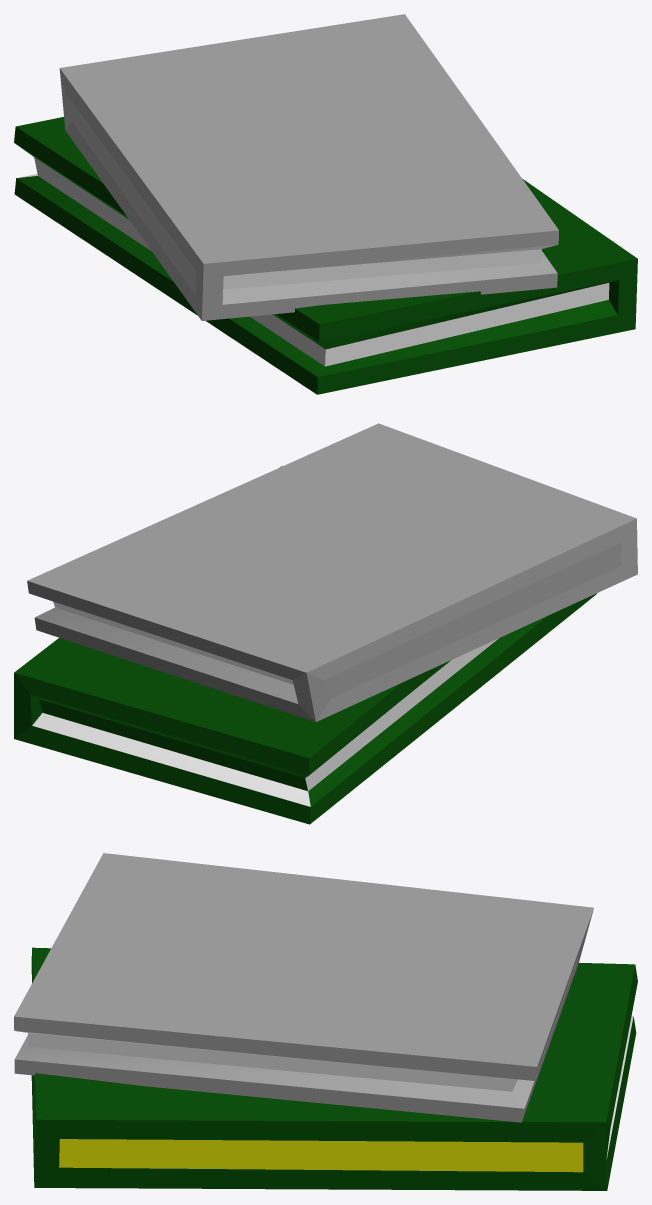
The model's file is Books_5.fbx.
The picture shows the model from 3 angles, top to bottom: view 1: azimuth 30°, elevation 25°; view 2: azimuth 150°, elevation 25°; view 3: azimuth 270°, elevation 25°; orthographic projection. The views are drawn at different scales.
Visible parts, largest first — view 1: Books_5; view 2: Books_5; view 3: Books_5.
Part boxes in pixels (x1,y1,x2,y2): Books_5: (14,14,637,394); Books_5: (14,423,637,824); Books_5: (14,853,637,1190).
Size of the model in its own units: 26.54 by 8.62 by 34.
